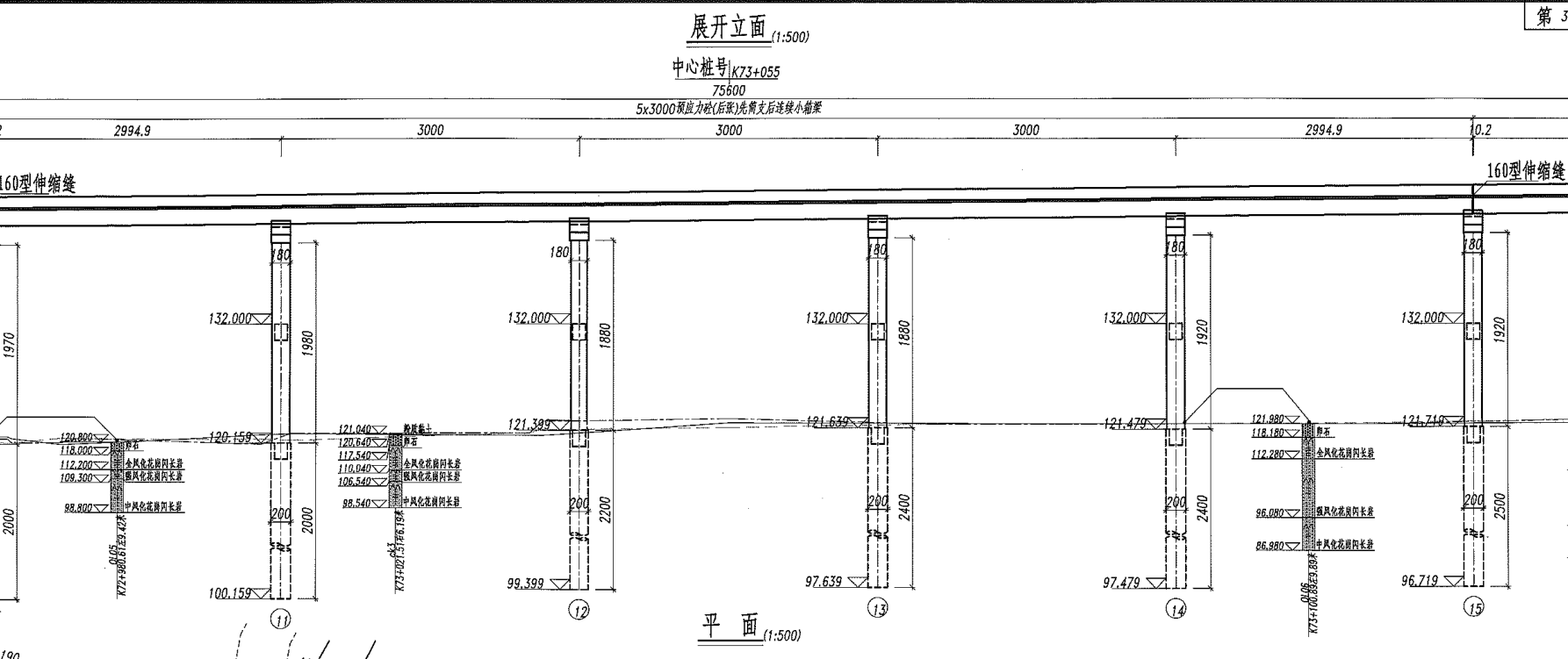C: (191, 211, 313, 636), (1389, 201, 1507, 629), (1088, 204, 1206, 630), (492, 207, 609, 629), (792, 206, 908, 629)
